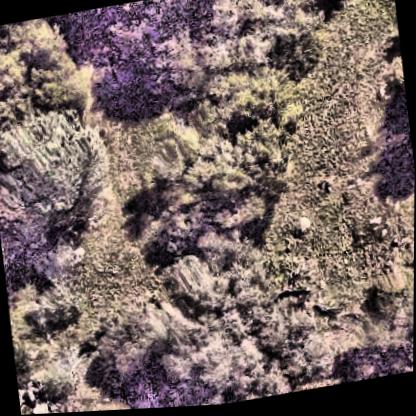tree-top: (140, 233, 335, 410), (0, 107, 119, 253), (179, 103, 288, 221), (208, 0, 330, 101), (0, 11, 86, 144), (325, 271, 414, 388), (166, 26, 259, 130), (86, 302, 166, 411)
